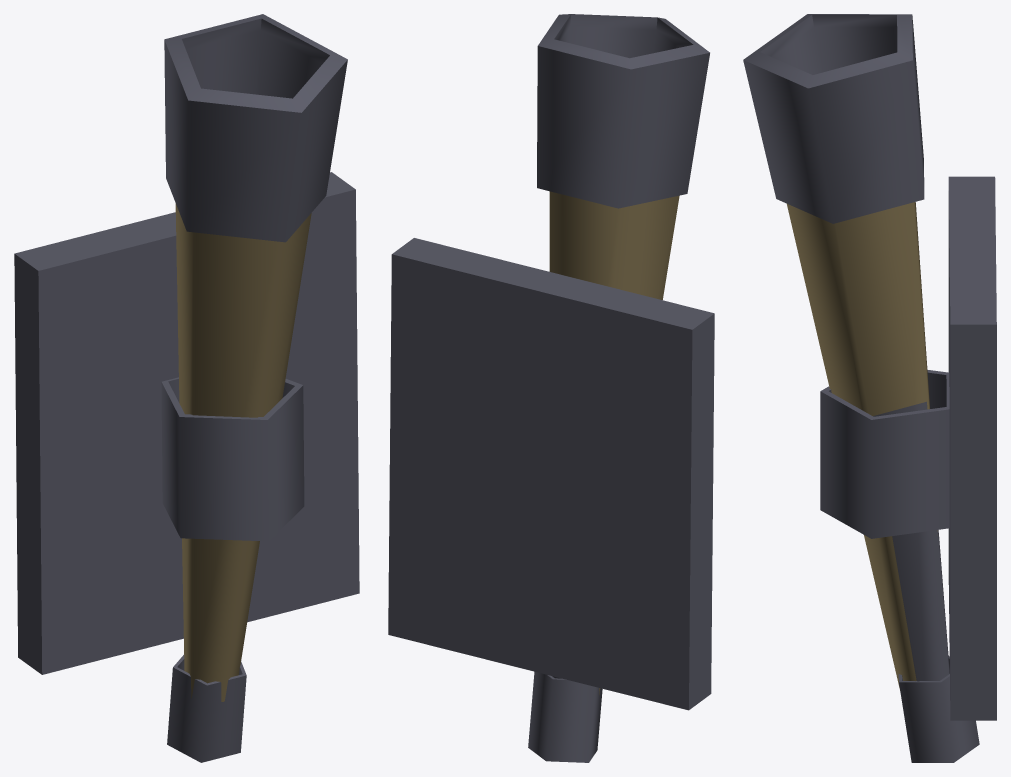
Rendered from torch-lp.glb.
3 views of the same model, side by side, from view 1: azimuth 30°, elevation 25°; view 2: azimuth 150°, elevation 25°; view 3: azimuth 270°, elevation 25° (orthographic). The views are drawn at different scales.
Visible parts, largest first — view 1: pCylinder50_dark_metal_0, pCylinder50_wood_2_0; view 2: pCylinder50_dark_metal_0, pCylinder50_wood_2_0; view 3: pCylinder50_dark_metal_0, pCylinder50_wood_2_0.
Part boxes in pixels (bbox=[...]): pCylinder50_dark_metal_0: bbox=[14, 14, 359, 762]; pCylinder50_wood_2_0: bbox=[175, 203, 311, 701]; pCylinder50_dark_metal_0: bbox=[388, 14, 714, 762]; pCylinder50_wood_2_0: bbox=[549, 191, 679, 694]; pCylinder50_dark_metal_0: bbox=[743, 14, 996, 762]; pCylinder50_wood_2_0: bbox=[787, 202, 937, 690].
Size of the model in its own units: 1.01 by 2.21 by 0.7072.
